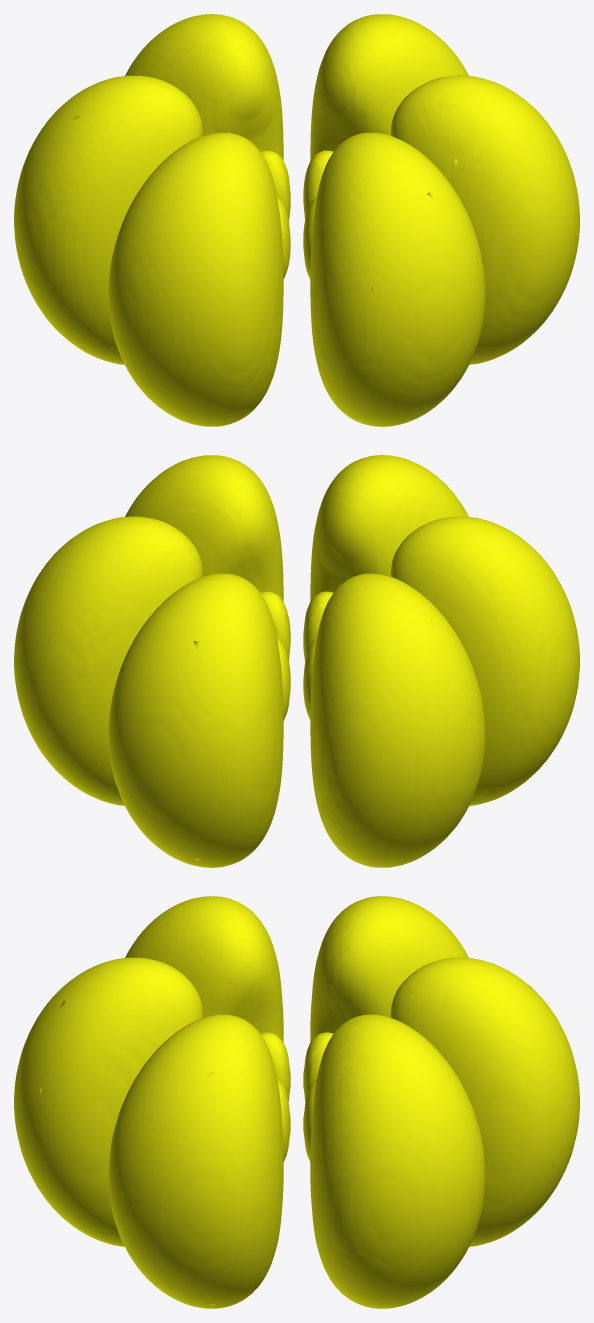
File: orb_n=5_ l=3 _m=-3.fbx
The picture shows the model from 3 angles, top to bottom: view 1: azimuth 30°, elevation 25°; view 2: azimuth 150°, elevation 25°; view 3: azimuth 270°, elevation 25°; orthographic projection.
Parts seen in each view (by area): view 1: orb_n=5_ l=3 _m=-3; view 2: orb_n=5_ l=3 _m=-3; view 3: orb_n=5_ l=3 _m=-3.
Part boxes in pixels (left/top/right/bottom): orb_n=5_ l=3 _m=-3: left=14, top=14, right=579, bottom=426; orb_n=5_ l=3 _m=-3: left=14, top=455, right=579, bottom=867; orb_n=5_ l=3 _m=-3: left=14, top=896, right=579, bottom=1308.
Size of the model in its own units: 10103 by 6036 by 11045.
